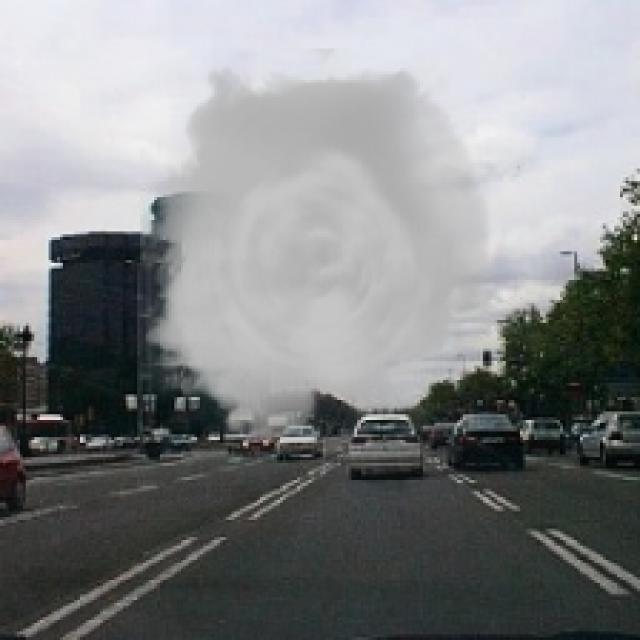Smoke: (140, 48, 492, 454)
